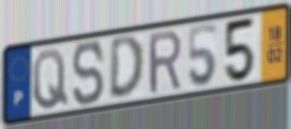5: (222, 14, 261, 86), (187, 19, 219, 90)
D: (107, 33, 147, 102)
Q: (31, 47, 70, 113)
R: (146, 27, 184, 98)
S: (70, 39, 106, 109)
